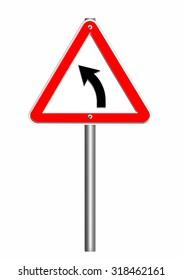Left hand curve: (33, 18, 150, 128)
